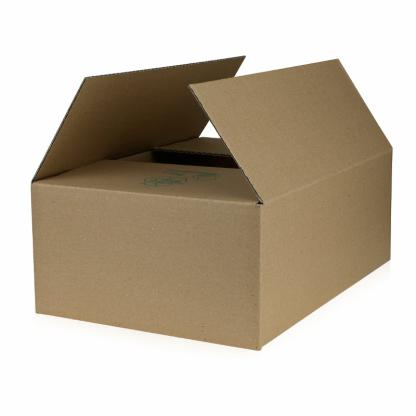box: (30, 52, 393, 349)
